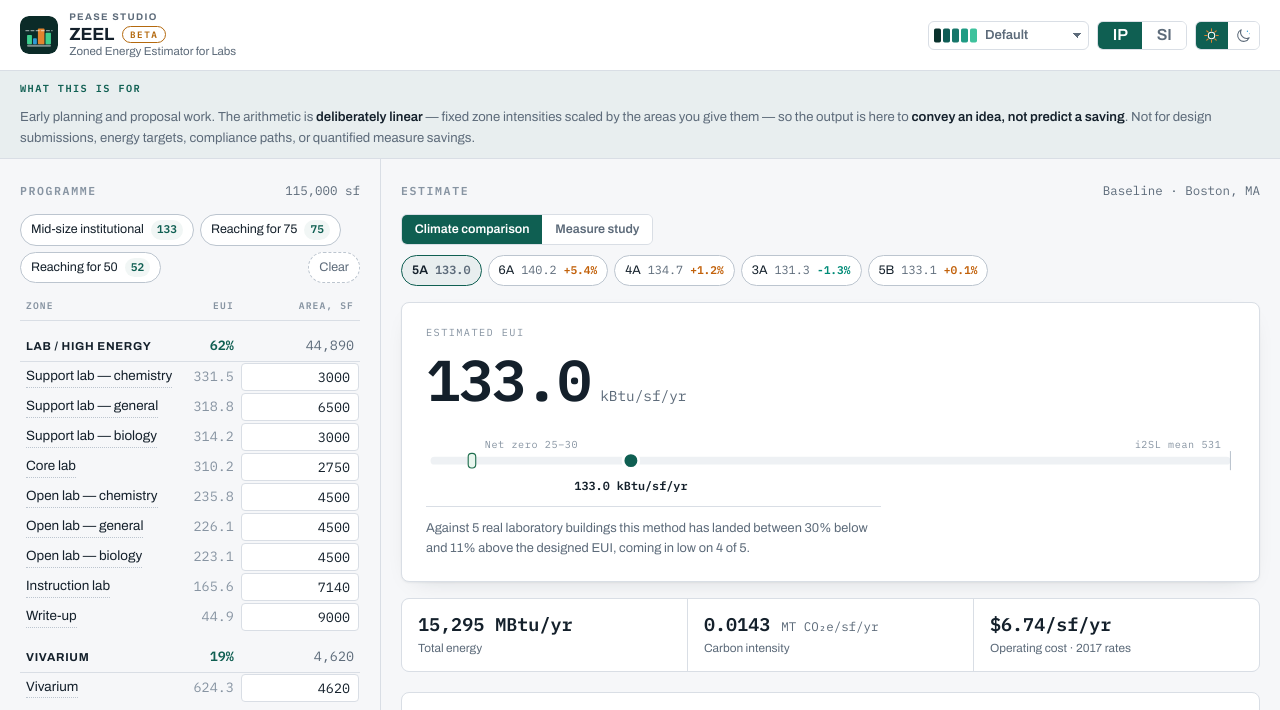
Test case: two studies, because the dataset has two shapes › returns to the baseline when the study changes
The image size is (1280, 710).
Click the button "Measure study".
click(597, 230)  # box [542,215,652,244]
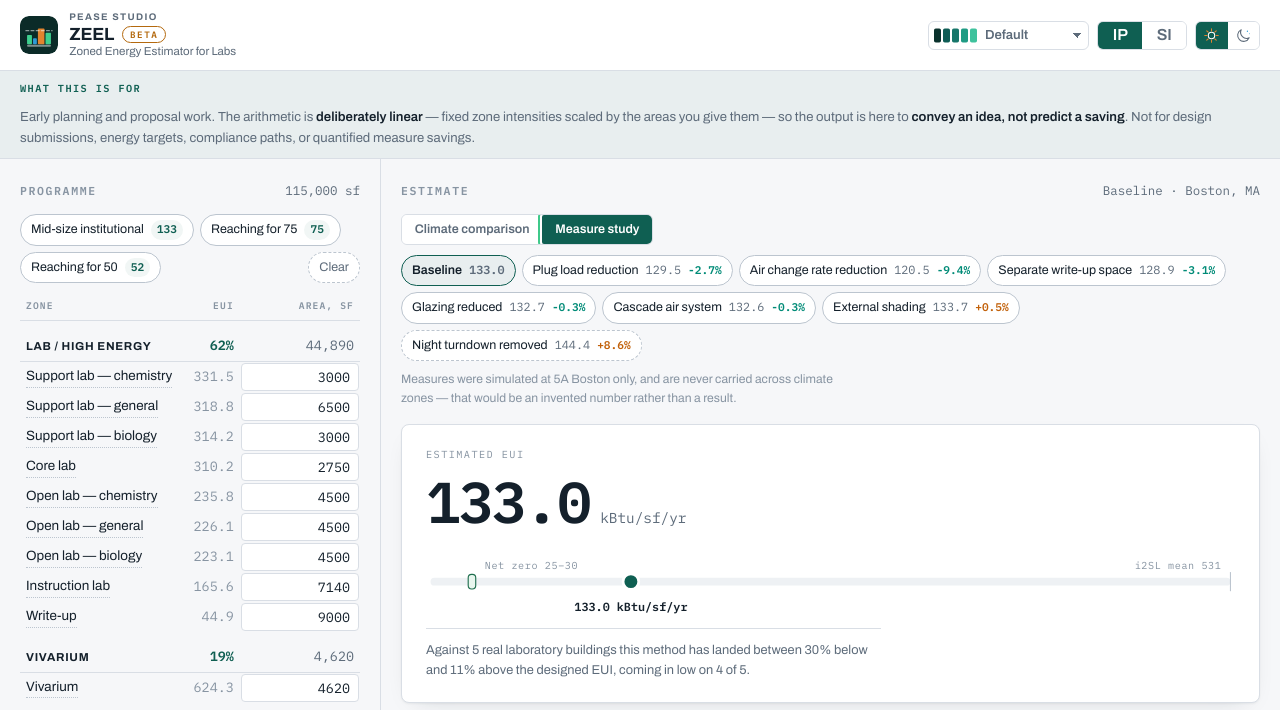
Click the button "Air change rate reduction 120.5 -9.4%".
click(860, 271)  # box [739,255,981,286]
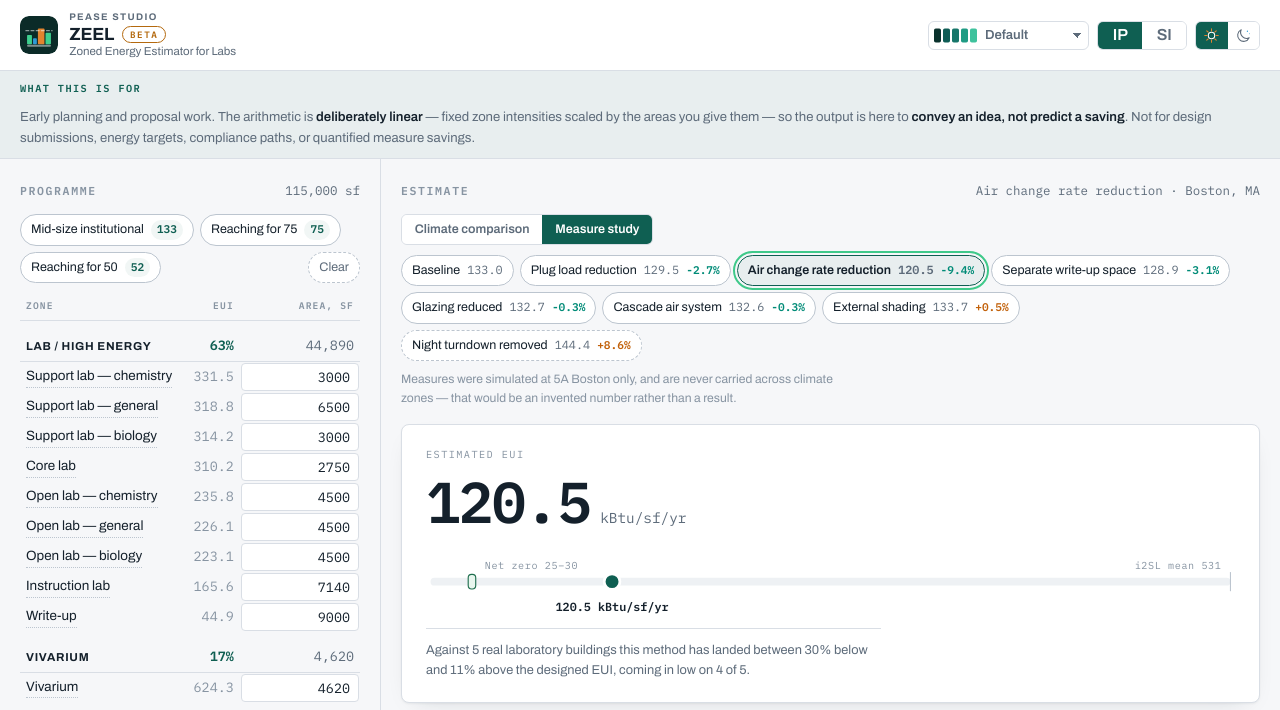
Result: the element with class "headline__value" shows "120.5" at [426,464,590,538]
// Landing on the previous study's case would show a measure labelled as a climate.
Click the button "Climate comparison".
click(472, 230)  # box [402,215,542,244]
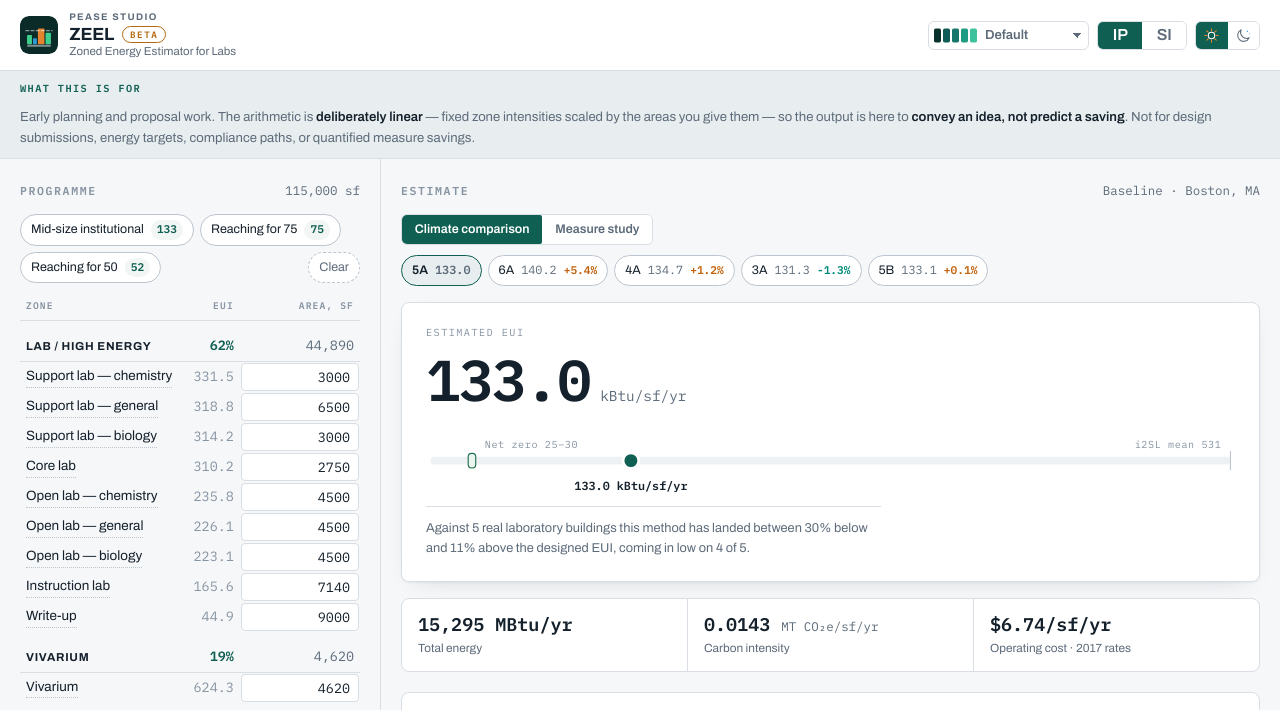
Result: the element with class "headline__value" shows "133.0" at [426,342,590,417]
